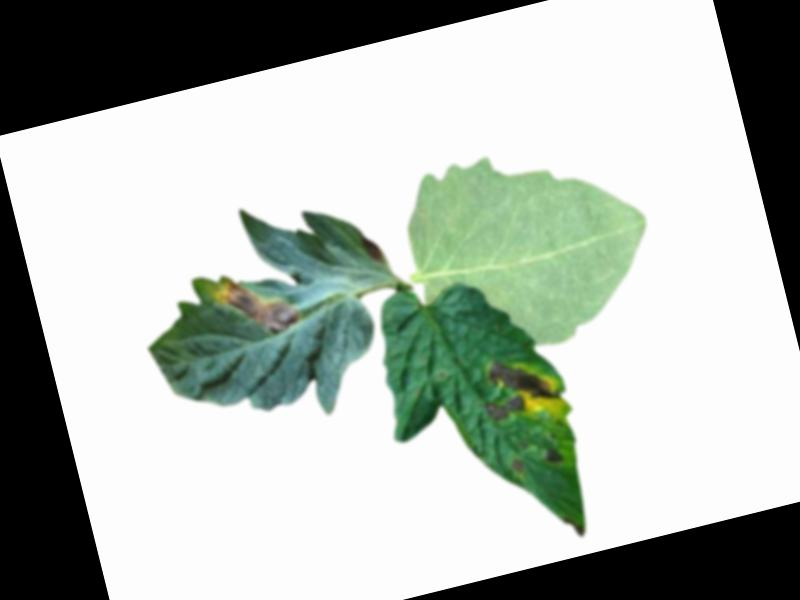Early_blight: (210, 260, 304, 347), (473, 345, 562, 425), (562, 511, 588, 541), (543, 441, 568, 467), (508, 455, 526, 471)
